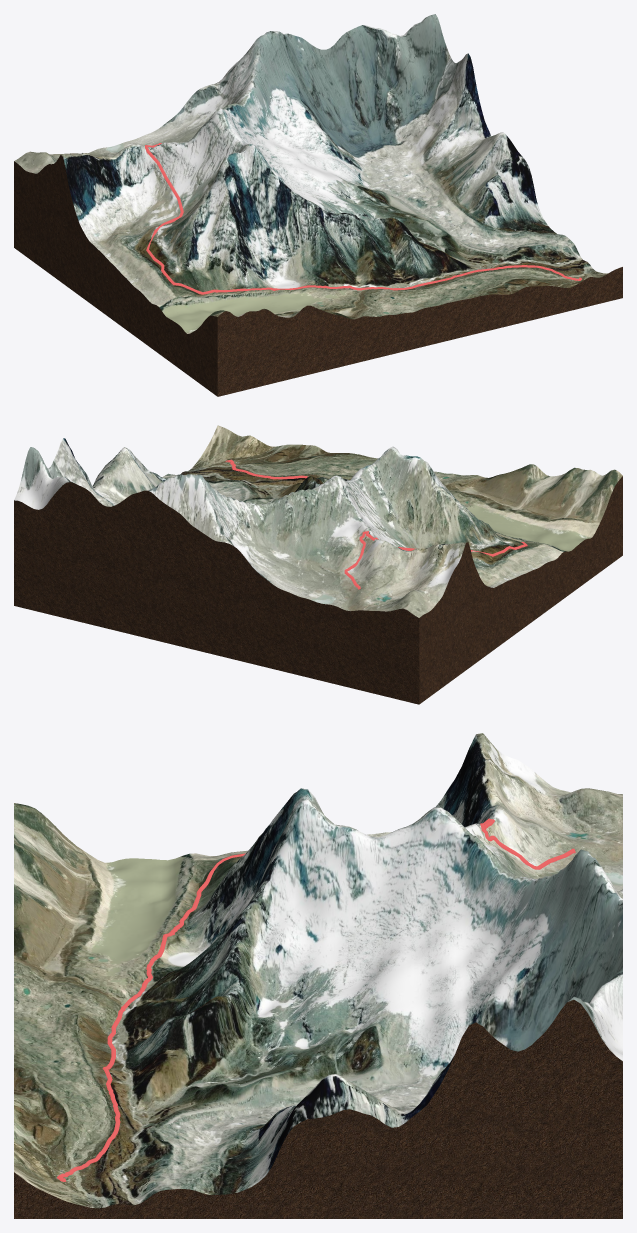
The picture shows the model from 3 angles, top to bottom: view 1: azimuth 30°, elevation 25°; view 2: azimuth 150°, elevation 25°; view 3: azimuth 270°, elevation 25°; orthographic projection. The views are drawn at different scales.
Visible parts, largest first — view 1: mesh, sideN, sideE, defaultPath; view 2: mesh, sideS, sideE, defaultPath; view 3: mesh, sideW, defaultPath.
Boxes of the visible parts, x1,y1,x2,y2 form: mesh: (14, 14, 608, 333); sideN: (217, 267, 622, 396); sideE: (14, 155, 217, 396); defaultPath: (145, 143, 581, 294); mesh: (14, 425, 622, 617); sideS: (14, 482, 419, 704); sideE: (419, 476, 622, 704); defaultPath: (225, 459, 527, 589); mesh: (14, 733, 622, 1208); sideW: (14, 999, 622, 1218); defaultPath: (57, 818, 575, 1181).
Bounding box in the file's own units: 30 × 11.57 × 26.14.
Materials: 4 (2 with a texture image).
